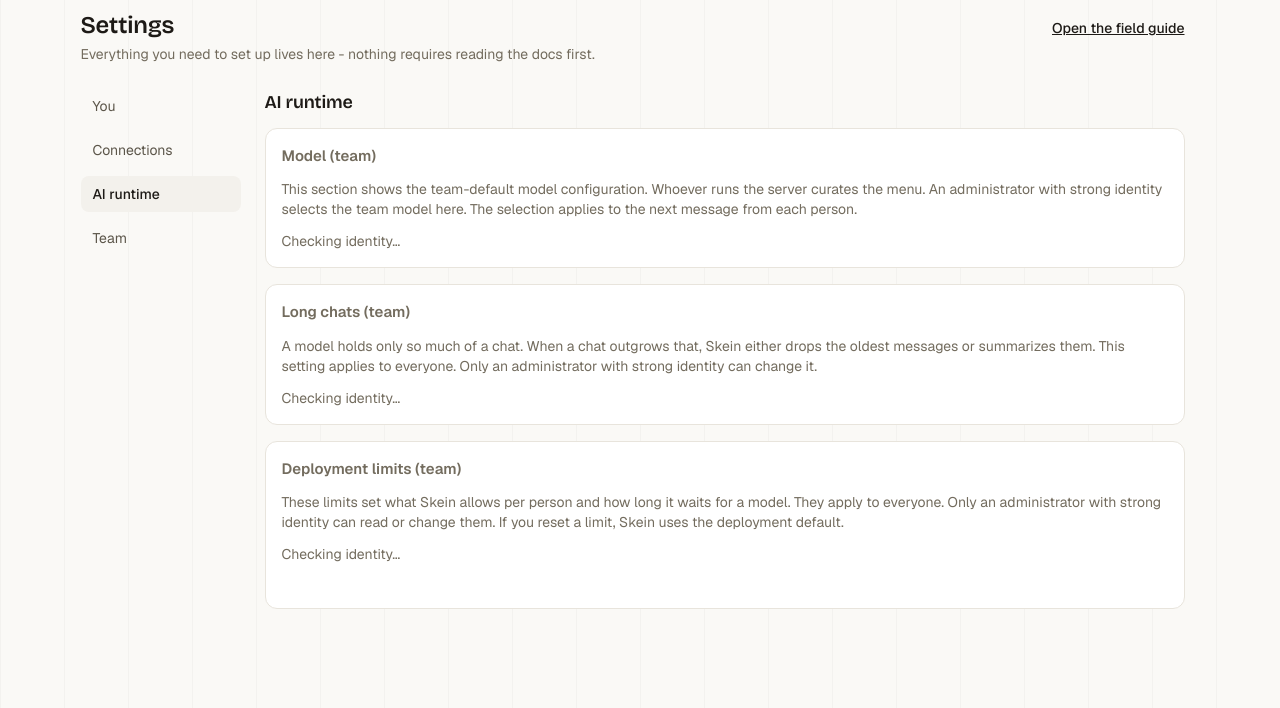
Test: the reasoning section › writes its copy in the house style
What coordinates should you click on to do the following:
click the link "AI runtime"
I would click on:
 (160, 194)
Its box is [80,176,240,212].
(page scrolled)
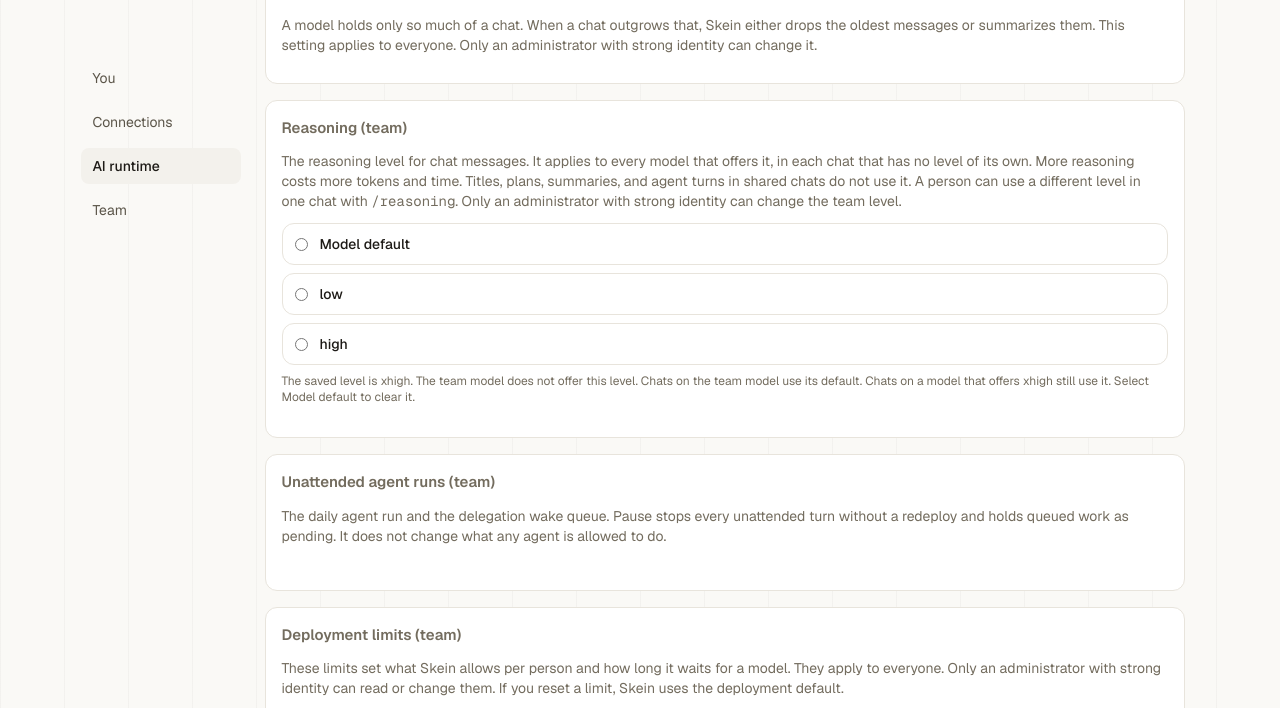
Expected: the text "The saved level is xhigh." is shown, [282,373,1168,405]
